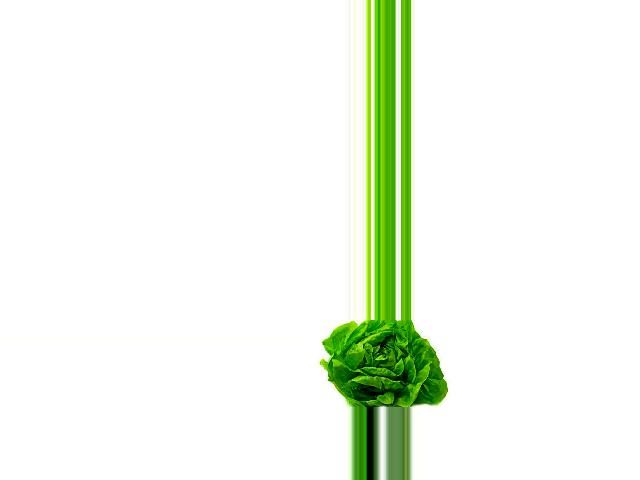lettuce: (325, 320, 450, 408)
